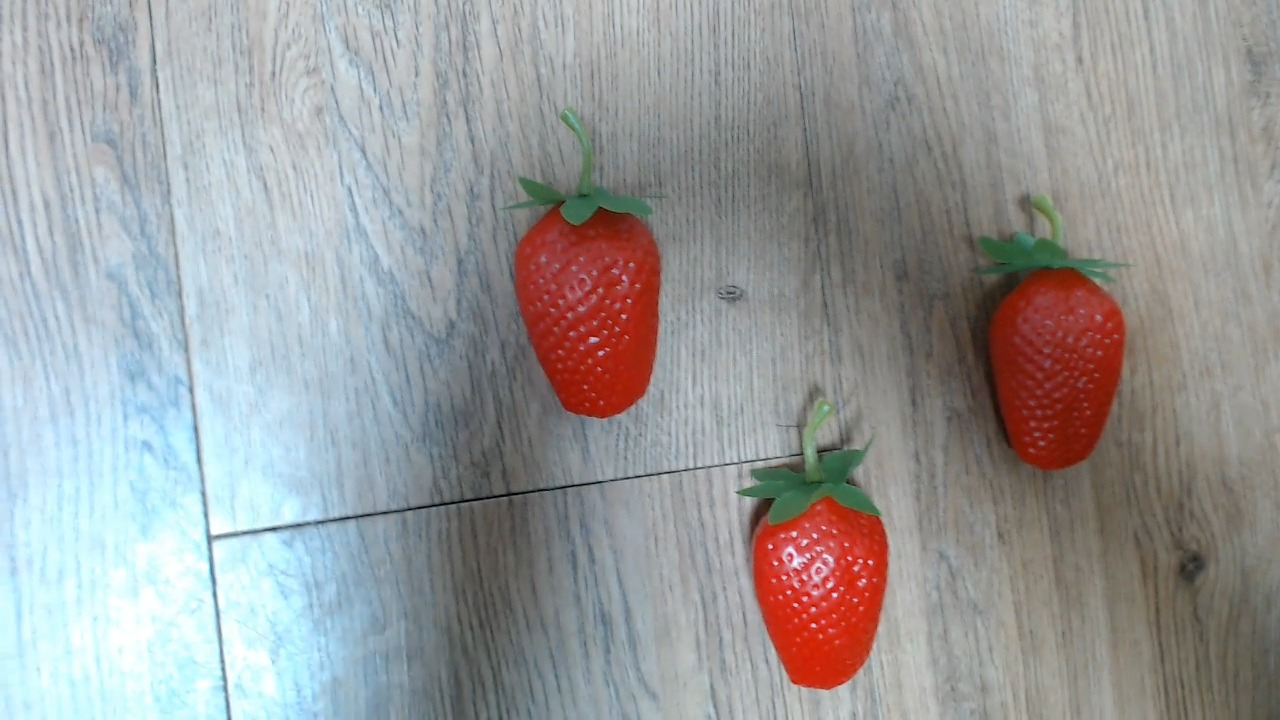strawberry: (503, 189, 693, 423), (960, 237, 1136, 477), (741, 457, 899, 694)
